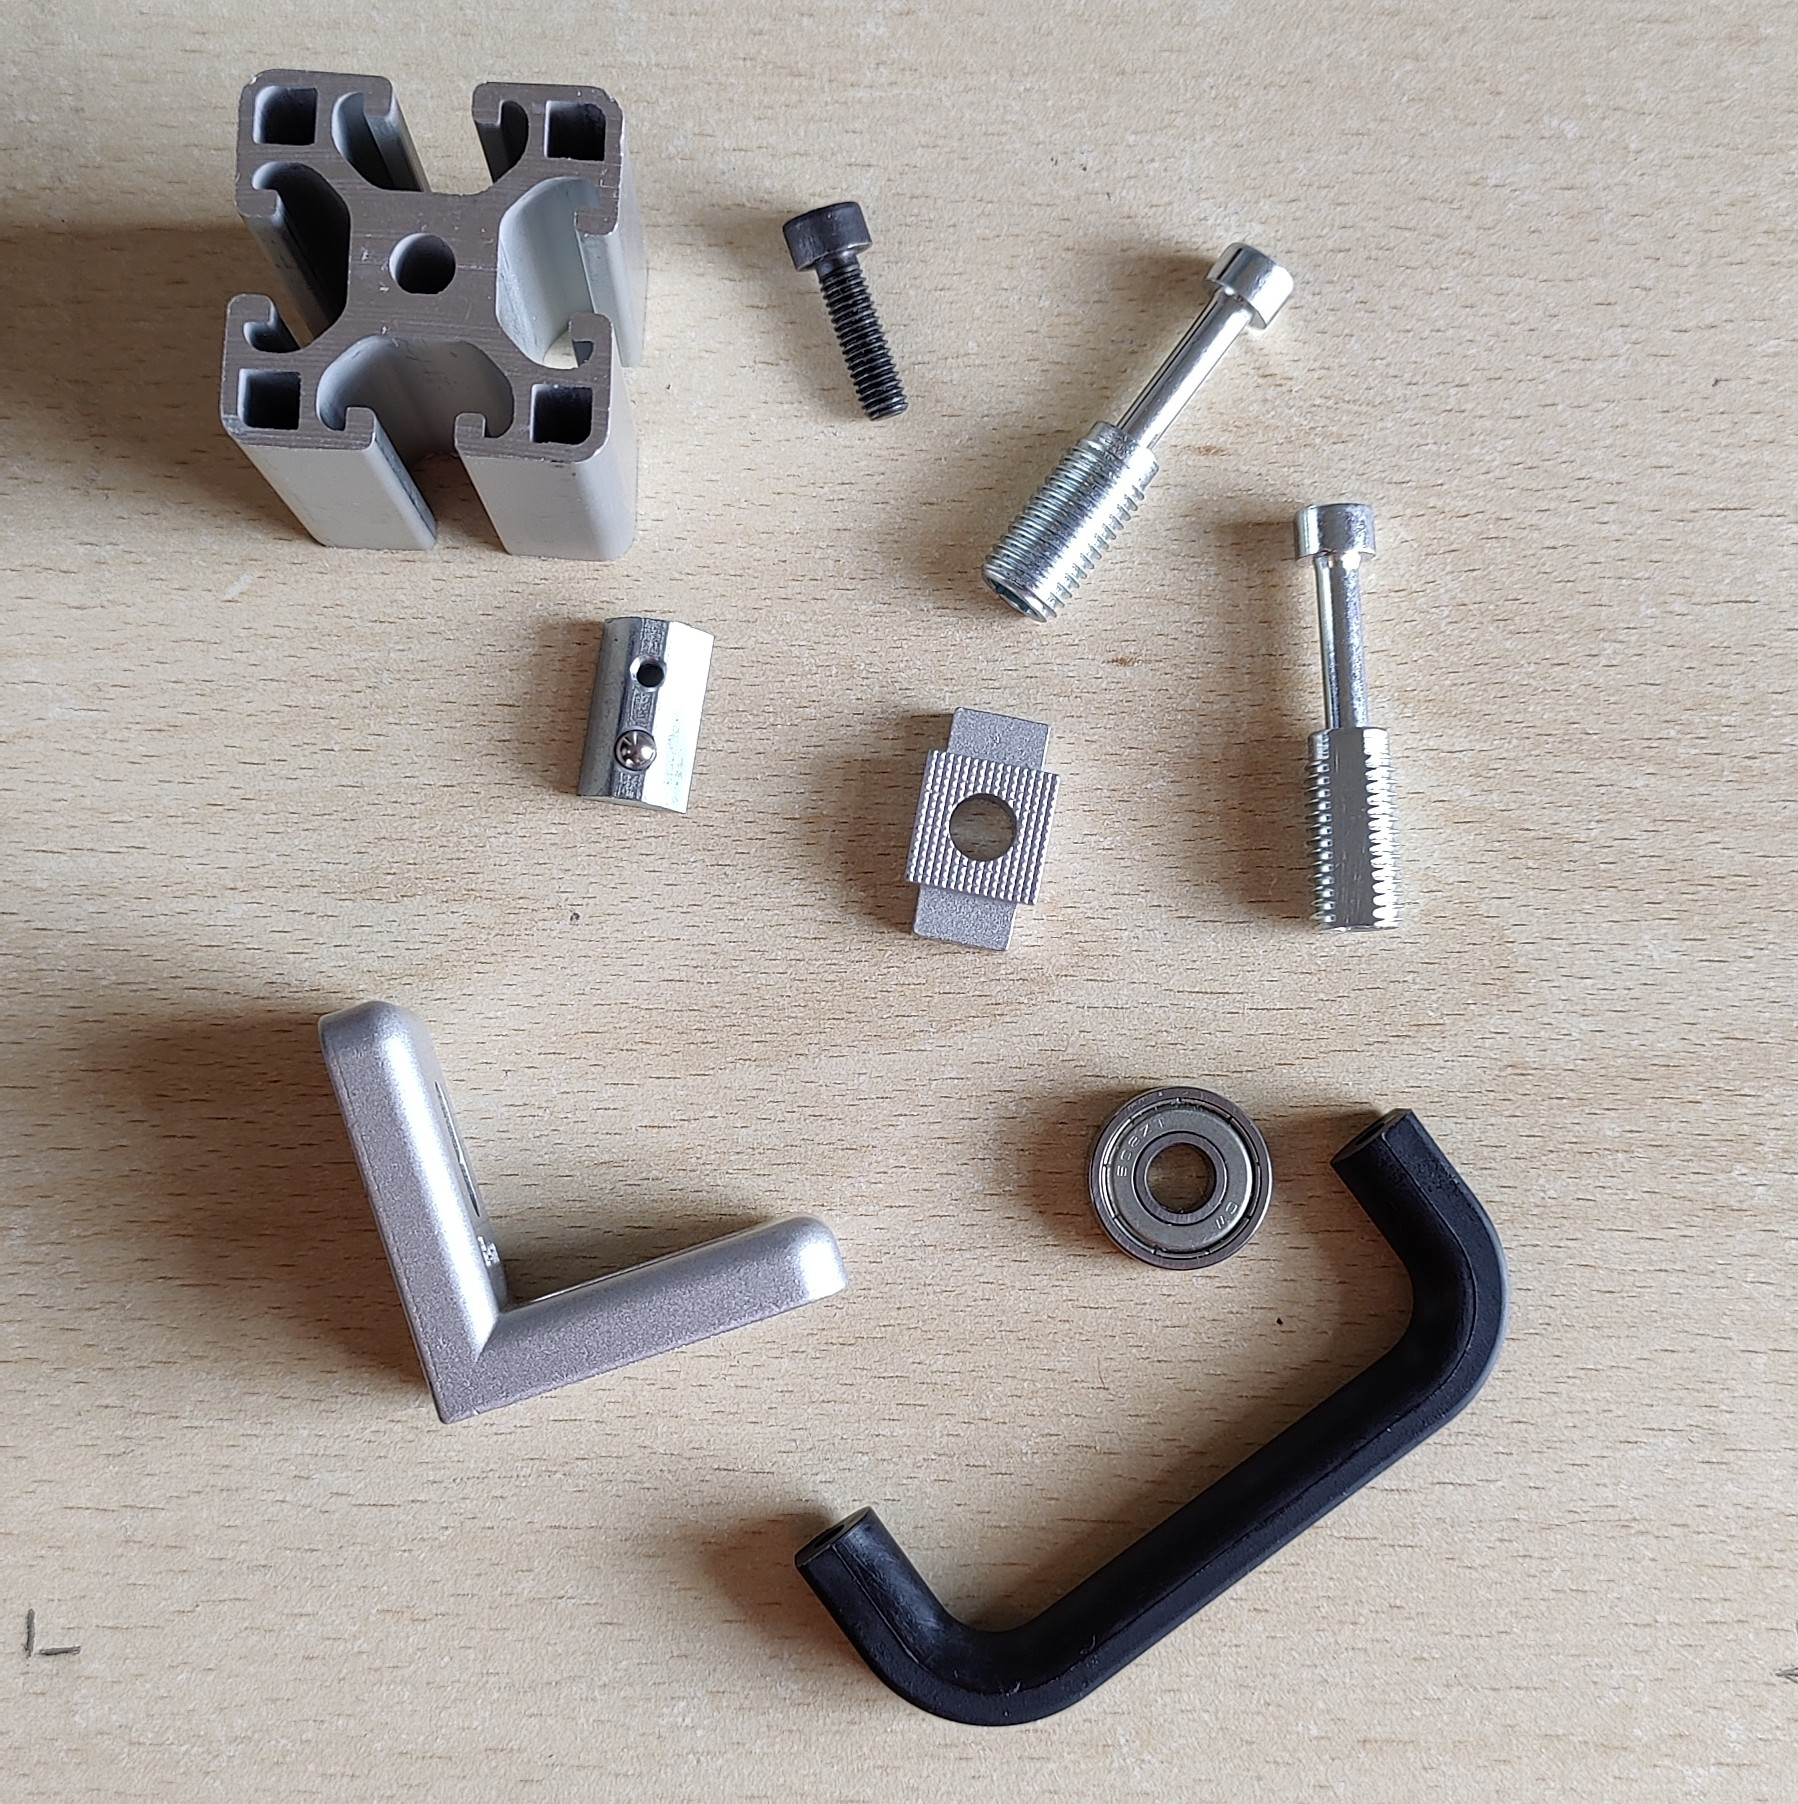Aluminium Extension: (212, 66, 652, 565)
Ball Bearing: (1085, 1081, 1276, 1274)
Multiwinkel: (318, 1001, 850, 1430)
Pull Handle: (794, 1104, 1512, 1730)
Shoulder Socket Head Cap Screw: (976, 240, 1299, 629), (1288, 499, 1404, 937)
Socket Head Cap Screw: (777, 198, 911, 426)
T Nut Square: (902, 700, 1060, 955)
T Spring Nut: (575, 612, 718, 818)
